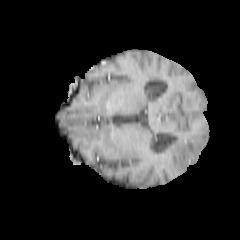glioma: (167, 138, 199, 170)
